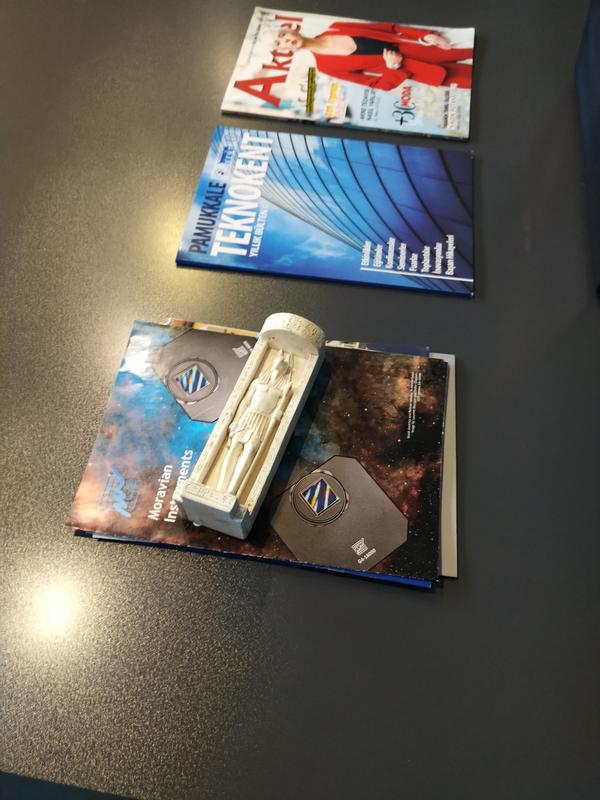heykel: (165, 305, 339, 546)
